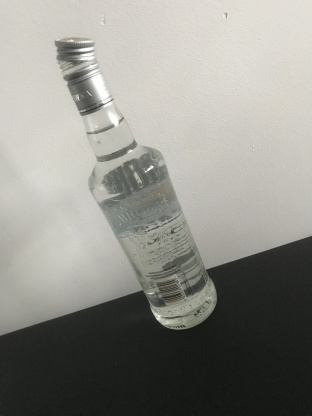nakretka: (53, 34, 115, 117)
